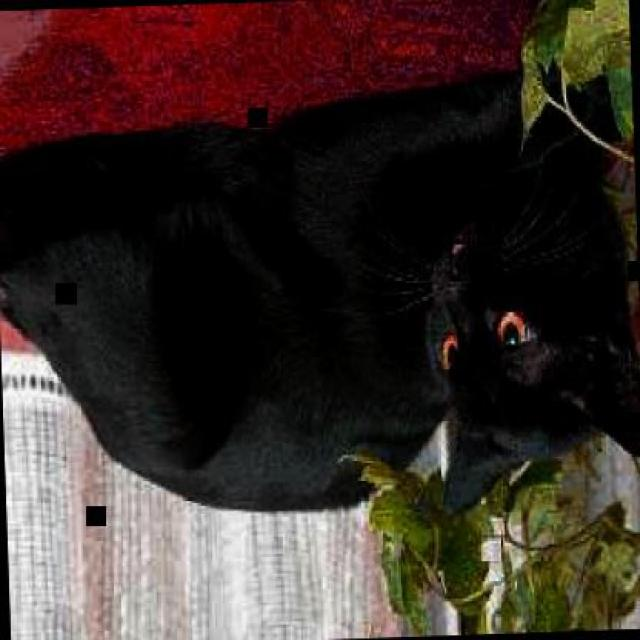cat: (0, 64, 638, 535)
